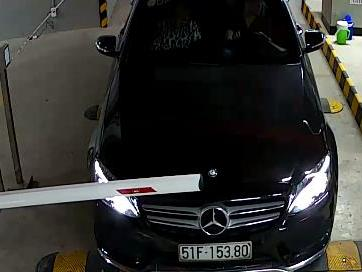car: (178, 242, 251, 261)
